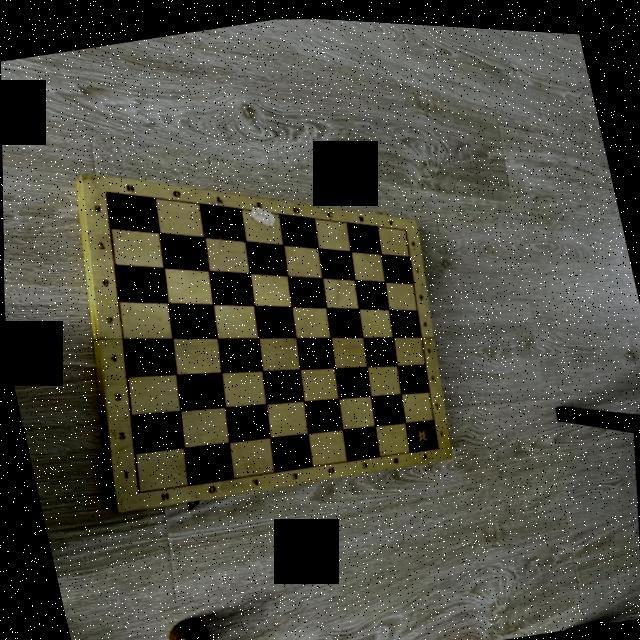chess-table-corners: (95, 182, 115, 200), (394, 216, 412, 234), (130, 484, 144, 496), (432, 439, 440, 445)
